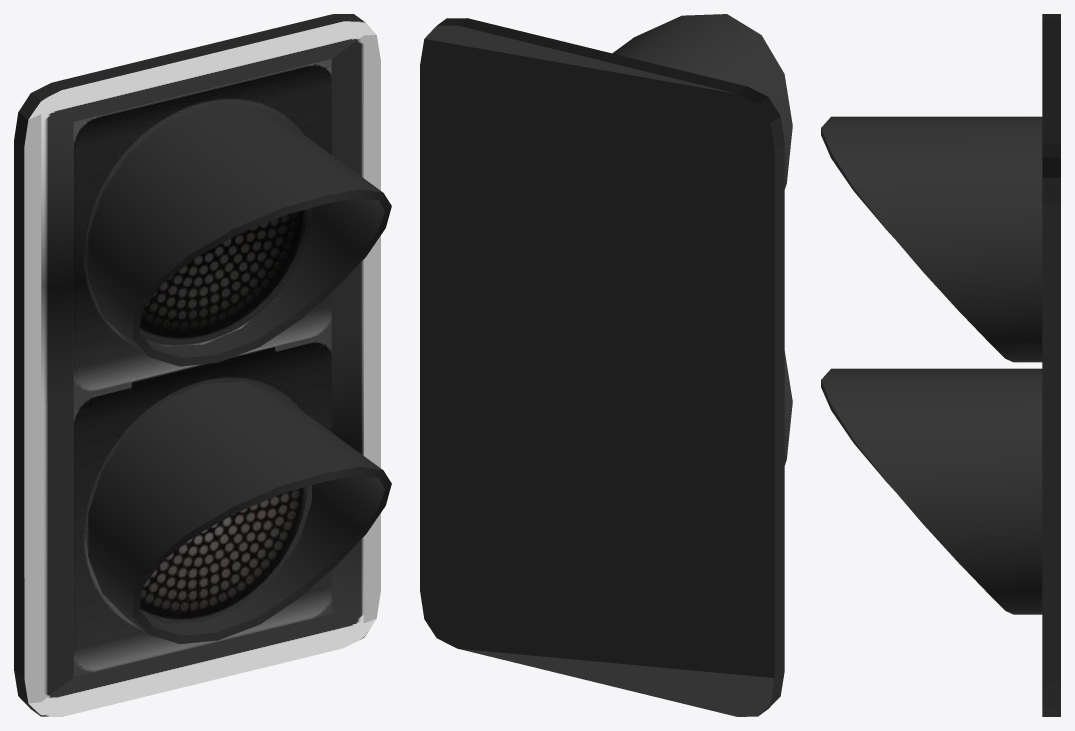
The model's file is signlight2.gltf.
The picture shows the model from 3 angles, left to right: view 1: azimuth 30°, elevation 25°; view 2: azimuth 150°, elevation 25°; view 3: azimuth 270°, elevation 25°; orthographic projection. The views are drawn at different scales.
Parts seen in each view (by area): view 1: Box449, Tube202, Tube204; view 2: Box449, Tube202, Tube204; view 3: Tube204, Tube202, Box449.
Boxes of the visible parts, bbox=[...] form: Box449: bbox=[14, 14, 380, 716]; Tube202: bbox=[88, 104, 391, 366]; Tube204: bbox=[88, 381, 391, 643]; Box449: bbox=[420, 18, 784, 716]; Tube202: bbox=[612, 14, 792, 189]; Tube204: bbox=[784, 351, 792, 465]; Tube204: bbox=[821, 368, 1042, 614]; Tube202: bbox=[821, 116, 1042, 362]; Box449: bbox=[1042, 14, 1060, 716].
Size of the model in its own units: 0.2064 by 0.3466 by 0.1323.
Materials: 2 (2 with a texture image).
